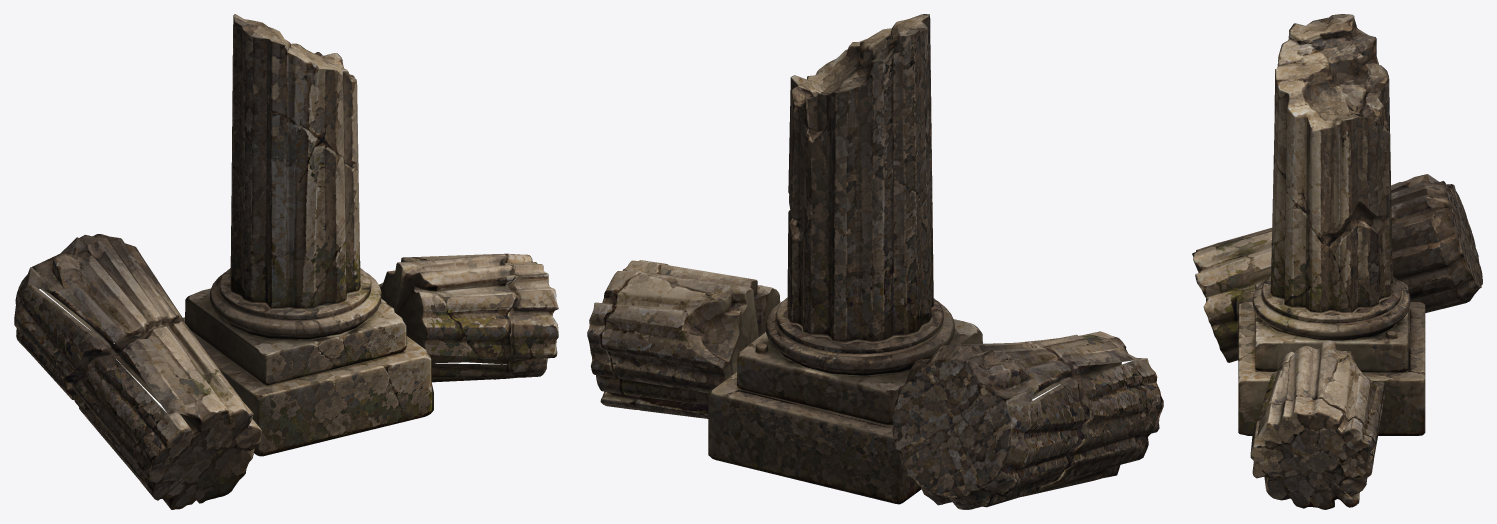
File: dungeon_broken_column.glb
The picture shows the model from 3 angles, left to right: view 1: azimuth 30°, elevation 25°; view 2: azimuth 150°, elevation 25°; view 3: azimuth 270°, elevation 25°; orthographic projection. The views are drawn at different scales.
Visible parts, largest first — view 1: fca8826c_6bf0_42a9_9f9e_c8152412d195; view 2: fca8826c_6bf0_42a9_9f9e_c8152412d195; view 3: fca8826c_6bf0_42a9_9f9e_c8152412d195.
Boxes of the visible parts, <box> form: fca8826c_6bf0_42a9_9f9e_c8152412d195: <box>14,14,558,509</box>; fca8826c_6bf0_42a9_9f9e_c8152412d195: <box>587,14,1163,509</box>; fca8826c_6bf0_42a9_9f9e_c8152412d195: <box>1192,14,1482,509</box>.
Size of the model in its own units: 0.9995 by 0.8931 by 0.6089.
Materials: 1 (1 with a texture image).
